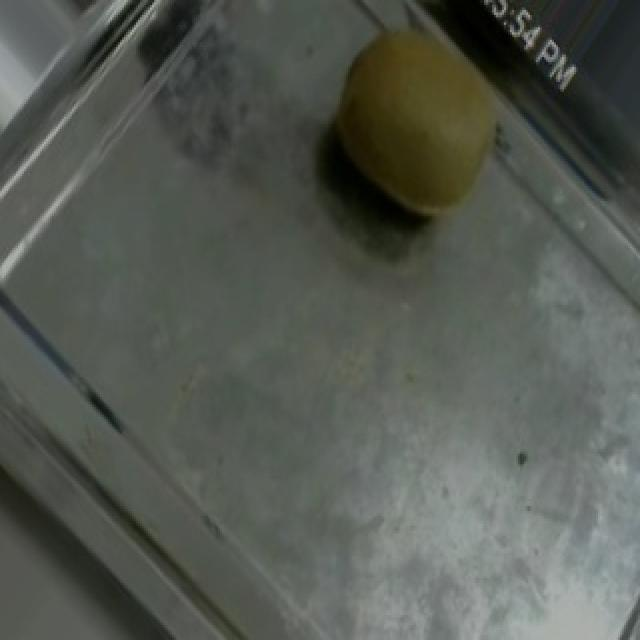Fruit: (290, 0, 542, 253)
